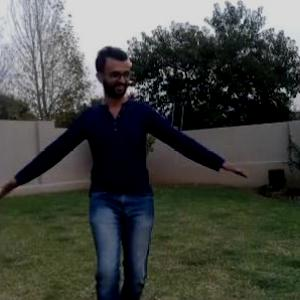land: (14, 42, 248, 299)
